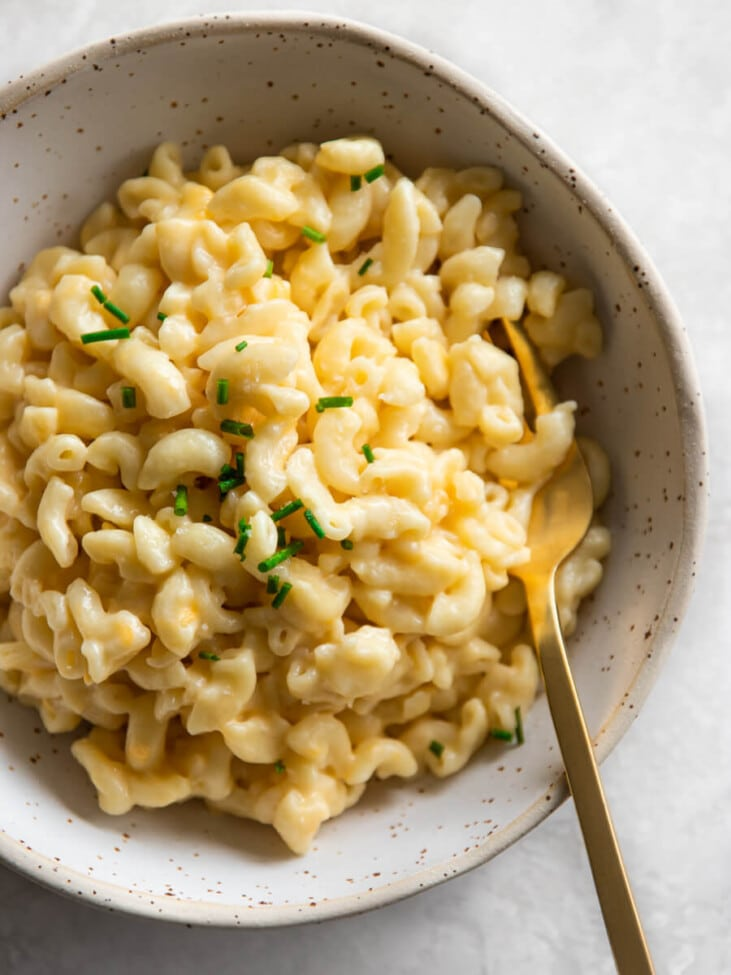cheese: (117, 262, 337, 565)
